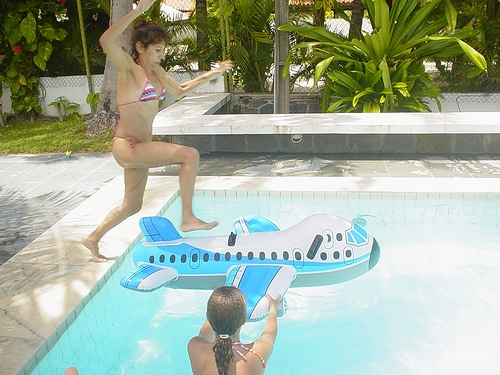head: (205, 284, 249, 352), (131, 19, 170, 70)
person: (82, 1, 236, 260), (180, 275, 283, 375)
